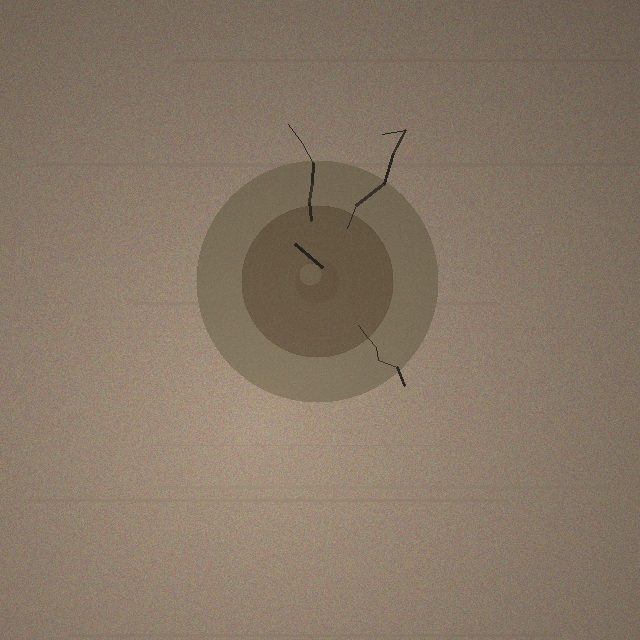crack: (196, 160, 438, 402)
